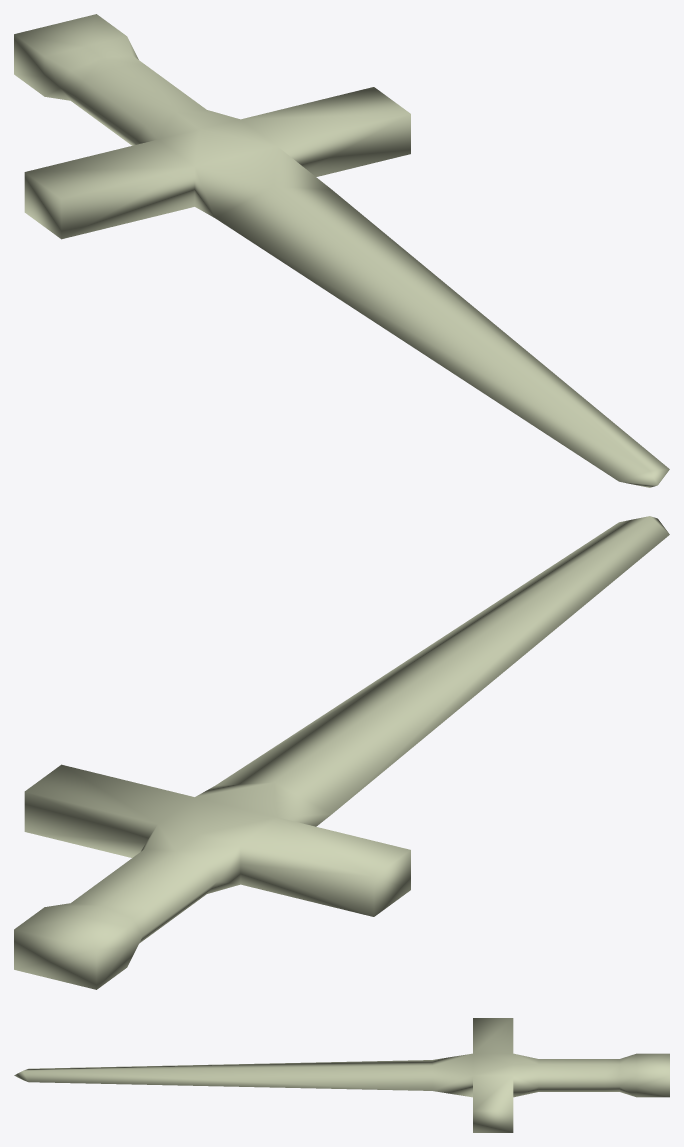
File: sword2.obj
3 views of the same model, one above another, from view 1: azimuth 30°, elevation 25°; view 2: azimuth 150°, elevation 25°; view 3: azimuth 270°, elevation 25° (orthographic). The views are drawn at different scales.
Visible parts, largest first — view 1: Cube1; view 2: Cube1; view 3: Cube1.
Part boxes in pixels (<box>): Cube1: <box>14,14,669,487</box>; Cube1: <box>14,516,669,989</box>; Cube1: <box>14,1018,669,1132</box>.
Bounding box in the file's own units: 8.45 × 0.9299 × 25.24.
